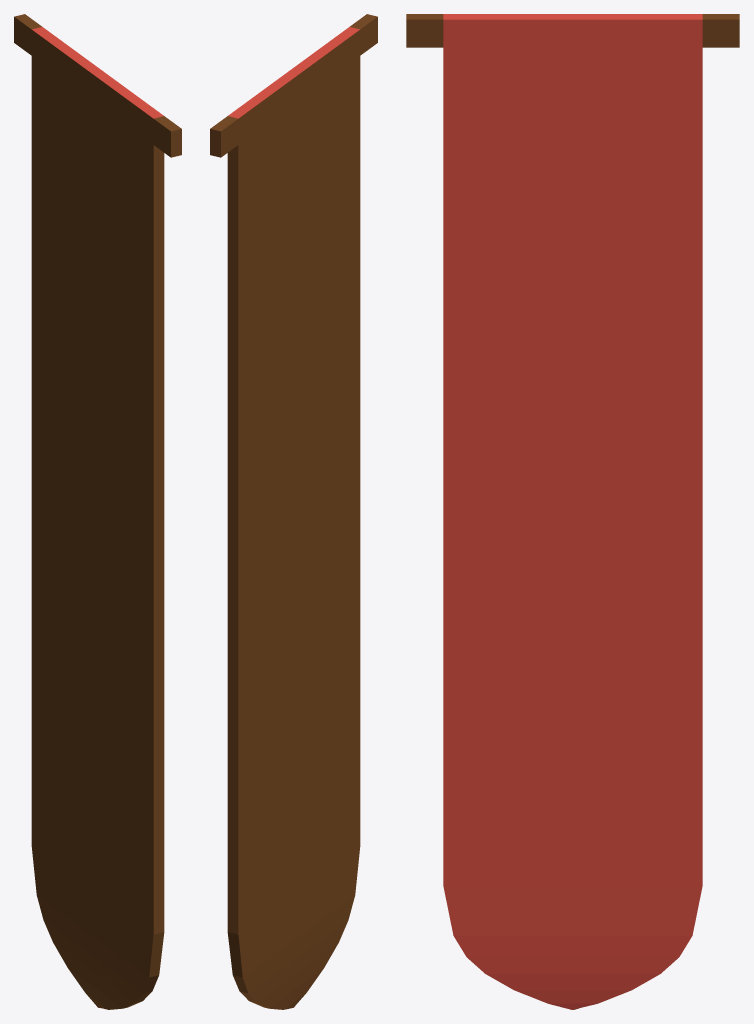
Rendered from Banner.fbx.
3 views of the same model, side by side, from view 1: azimuth 30°, elevation 25°; view 2: azimuth 150°, elevation 25°; view 3: azimuth 270°, elevation 25° (orthographic). The views are drawn at different scales.
Parts seen in each view (by area): view 1: Cube; view 2: Cube; view 3: Cube.
Boxes of the visible parts, x1,y1,x2,y2 form: Cube: (14, 14, 181, 1009); Cube: (210, 14, 377, 1009); Cube: (406, 14, 739, 1009).
Size of the model in its own units: 10.27 by 846 by 257.
